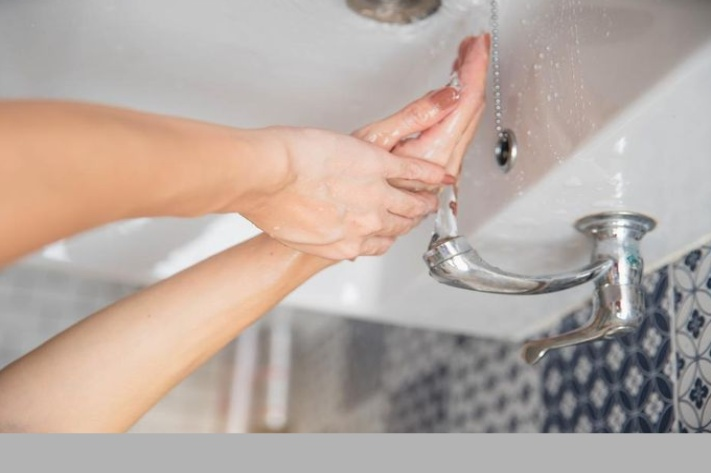washing hand: (157, 9, 654, 412)
